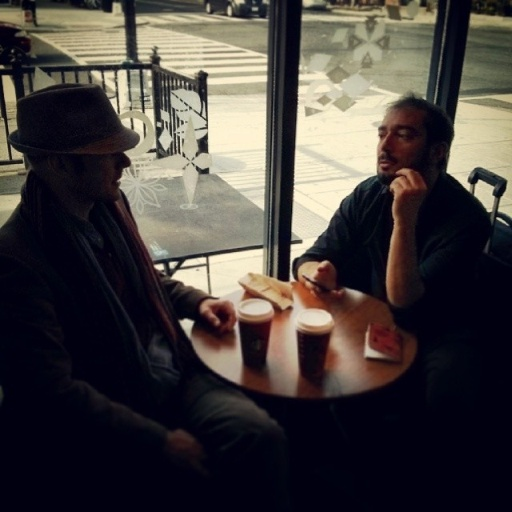hand: (188, 291, 240, 345), (387, 166, 428, 220), (301, 257, 347, 304), (163, 430, 204, 460)
